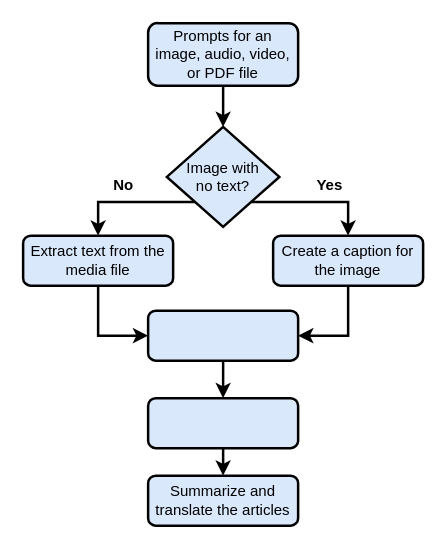
This 445x548 diagram has some shape labels left out. Here are the shapes that lost their labels. From the top down, the box of each, then its label:
(146, 309, 299, 361): Extract keywords from the text
(146, 396, 299, 449): Scrape relevant Wikipedia articles
